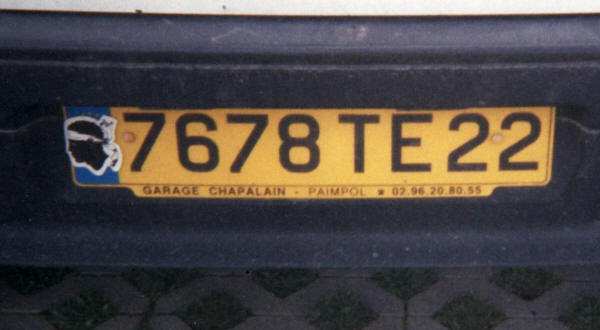license_plate: (64, 102, 558, 190)
